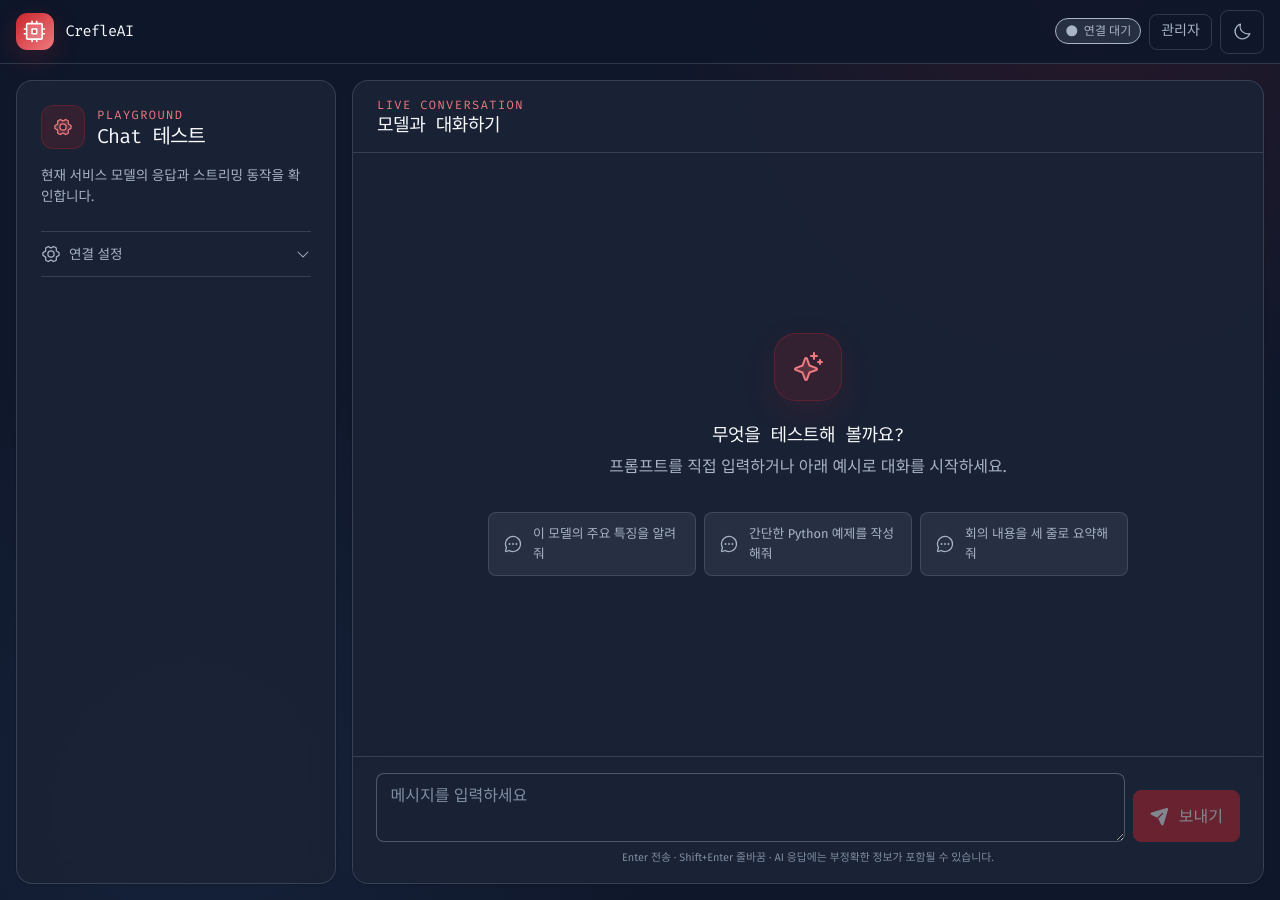
Test: think가 없는 응답은 본문만 표시한다
Type "안녕" into the text box labelled "메시지".
click(750, 808); type("안녕")  # box x1=376 y1=773 x2=1125 y2=842
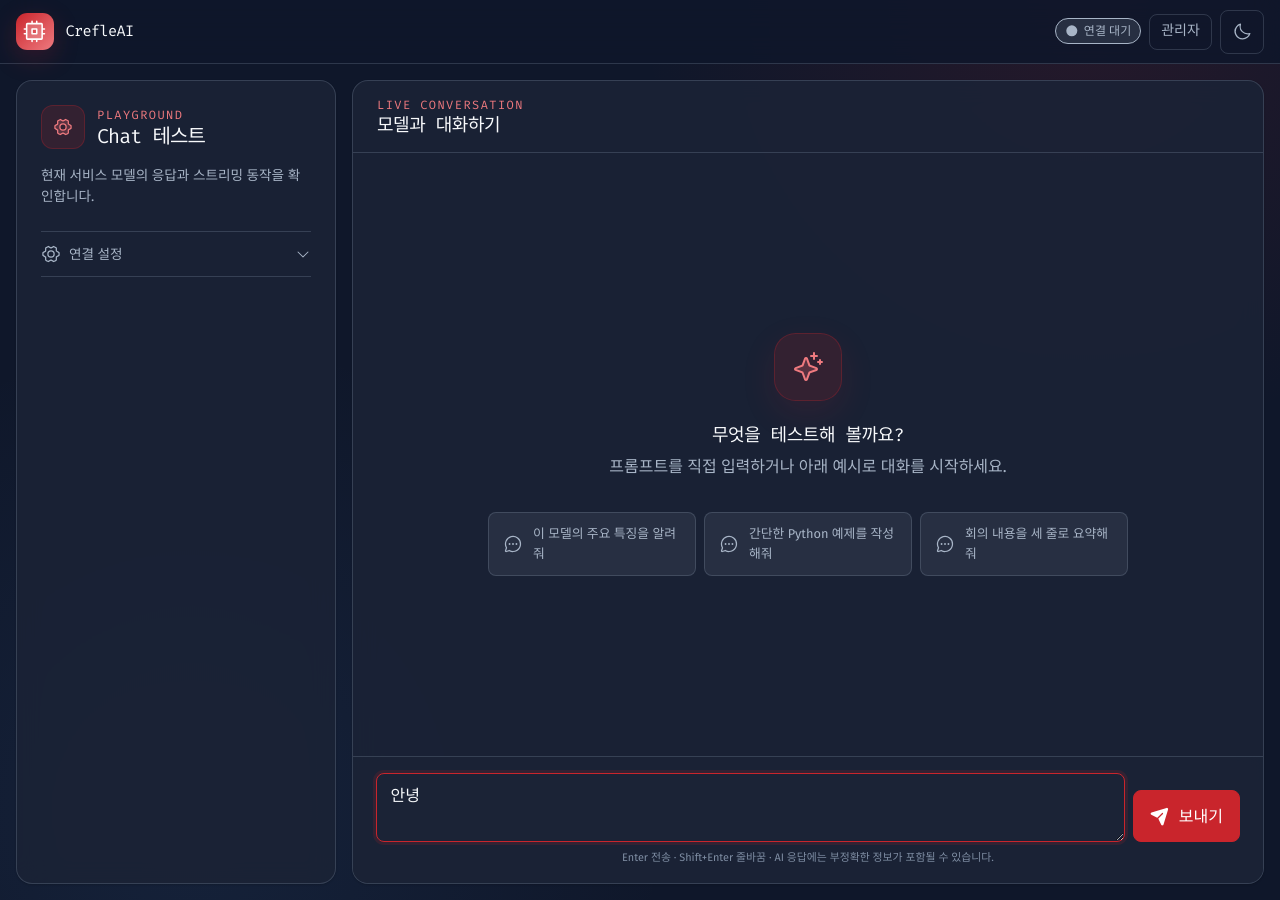
Click the button "보내기".
click(1186, 816)  # box x1=1133 y1=790 x2=1240 y2=842
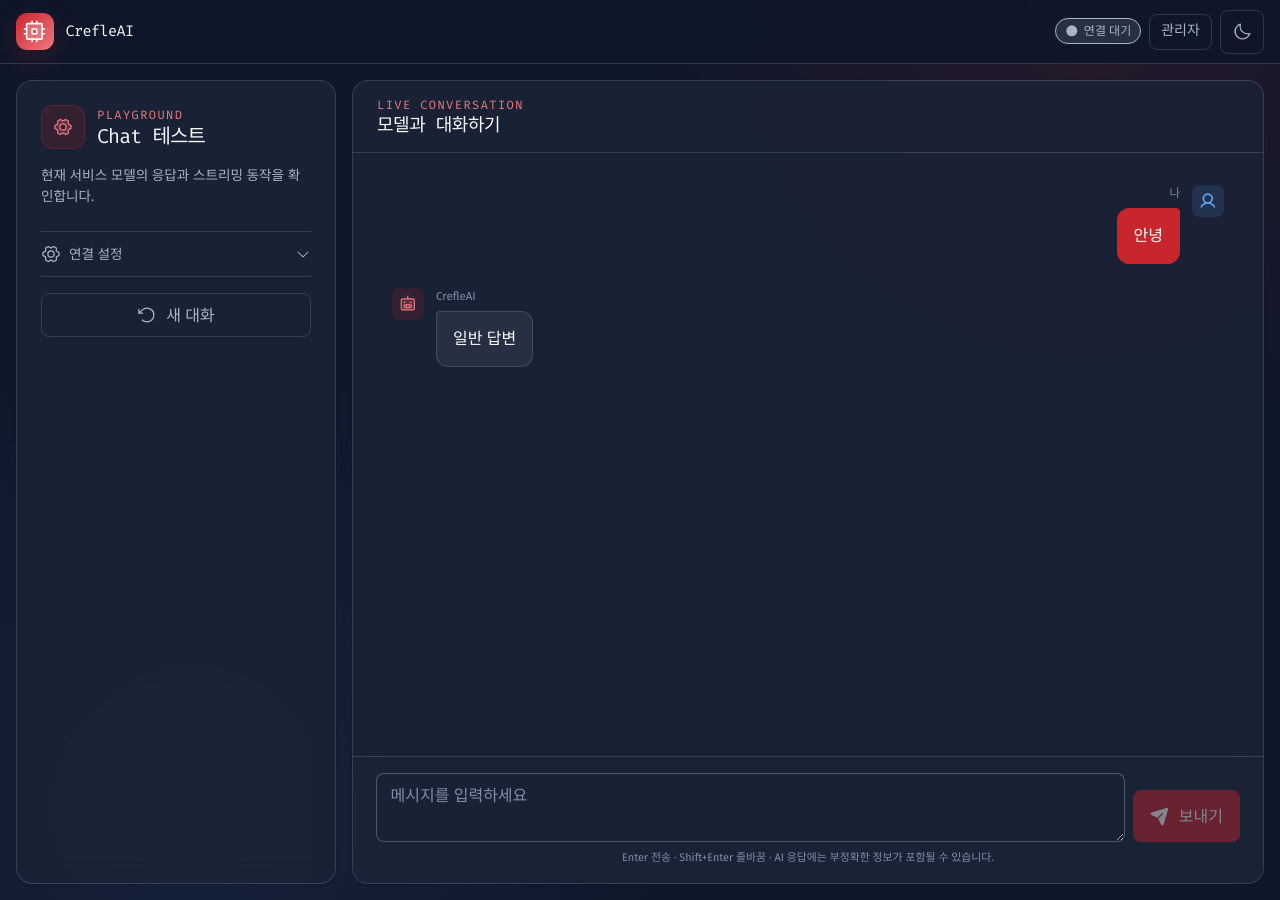
Now the text "일반 답변" is shown, box x1=453 y1=326 x2=516 y2=352
